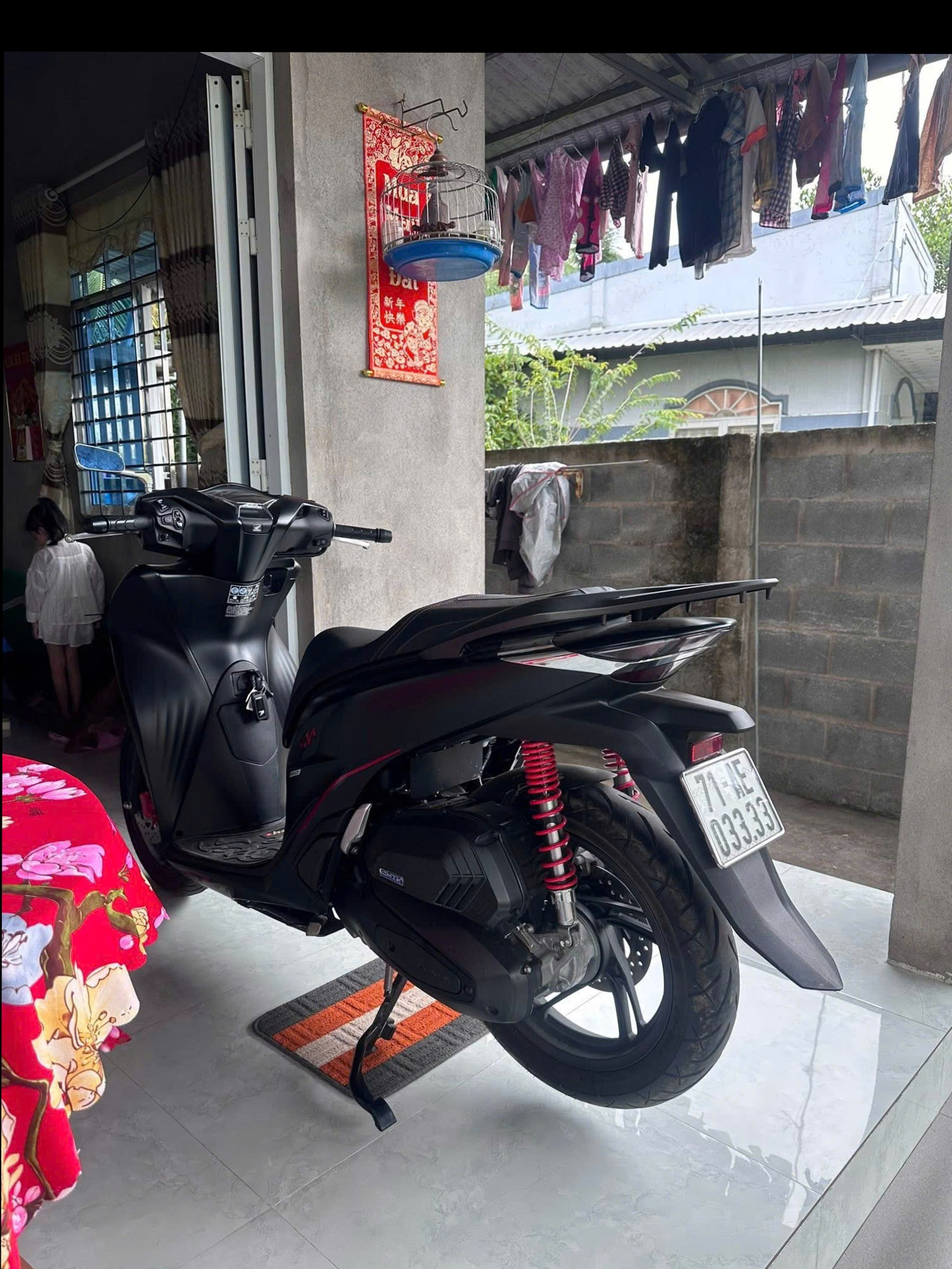Bien-so: (678, 726, 790, 864)
